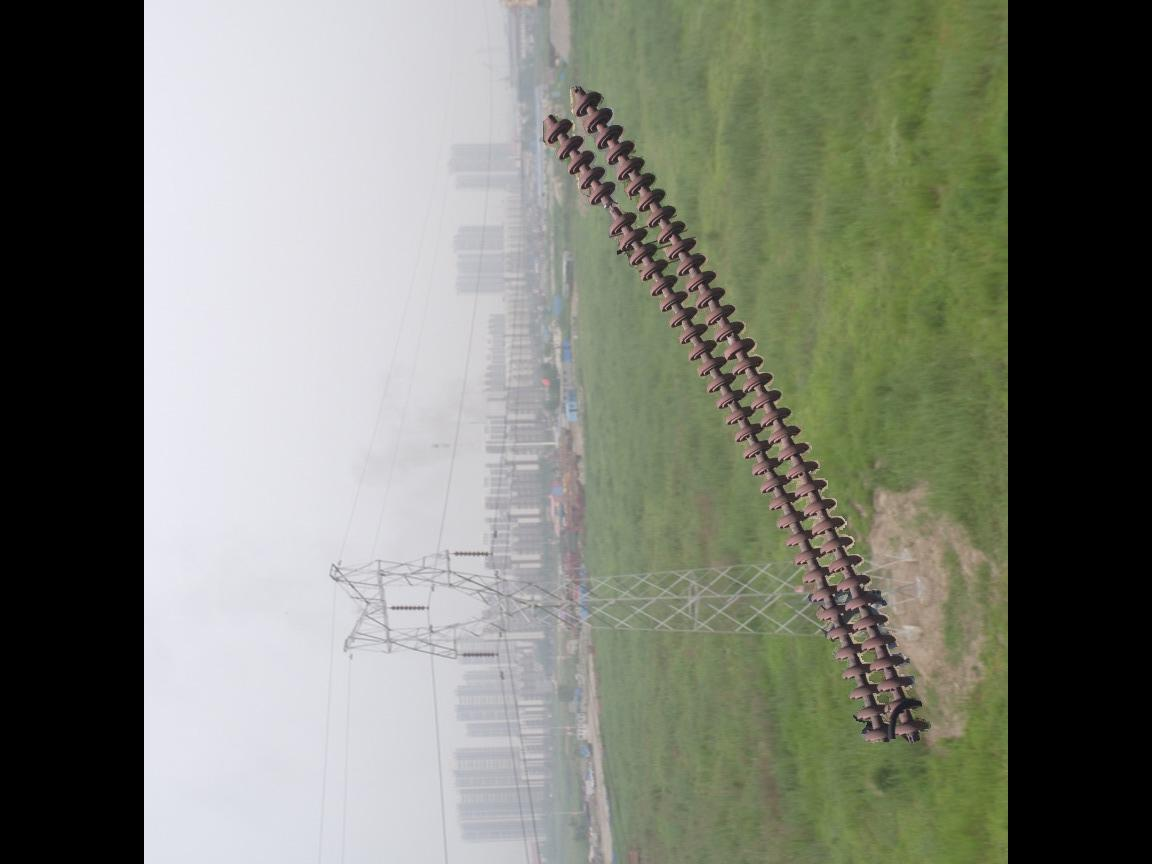insulator: (533, 84, 934, 748), (451, 546, 494, 564), (459, 648, 505, 663), (386, 602, 432, 616)
insulator_stringdrop: (585, 179, 639, 240)
